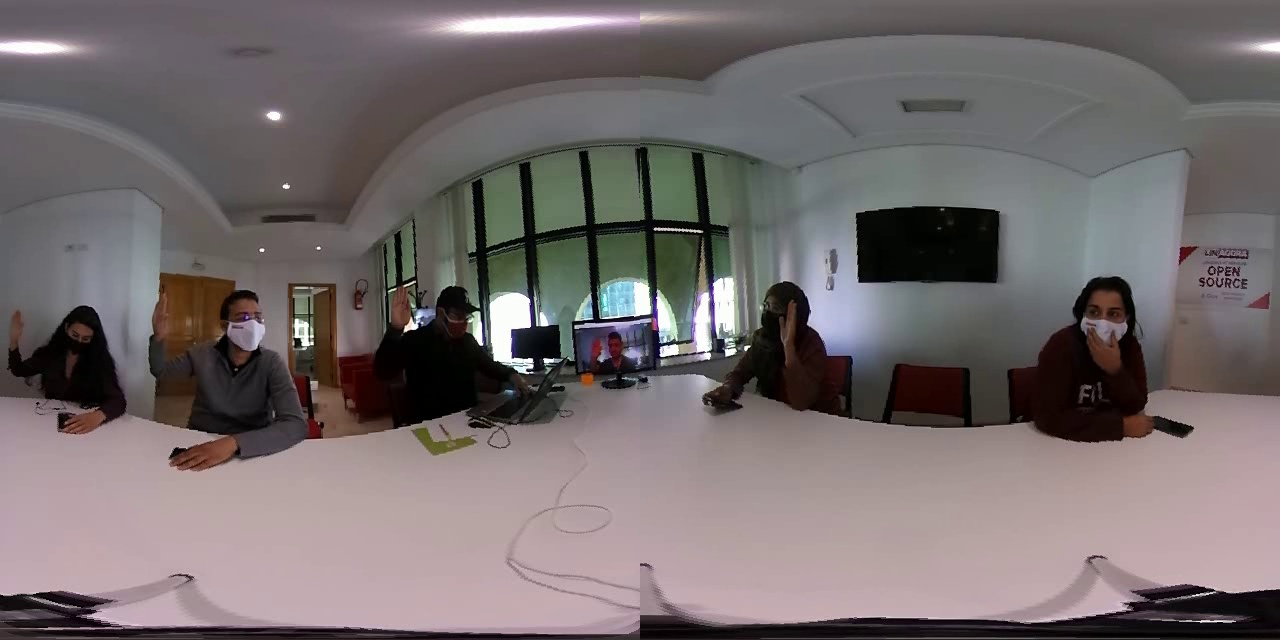person: (142, 282, 312, 464), (1026, 263, 1168, 447), (367, 272, 519, 415), (698, 272, 840, 415), (1, 299, 135, 436), (565, 311, 661, 385)
voting: (379, 275, 416, 388), (145, 285, 181, 394), (774, 294, 806, 388), (3, 303, 33, 383), (585, 330, 604, 373)
